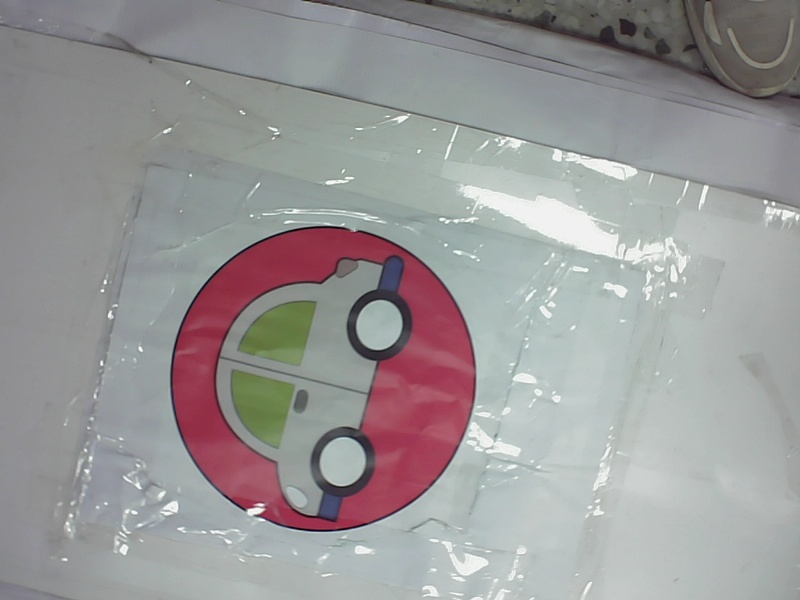areaC: (163, 217, 482, 536)
